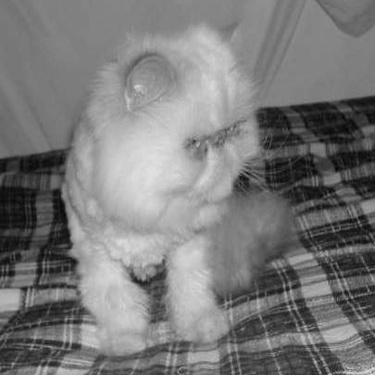cat: (27, 16, 294, 357)
